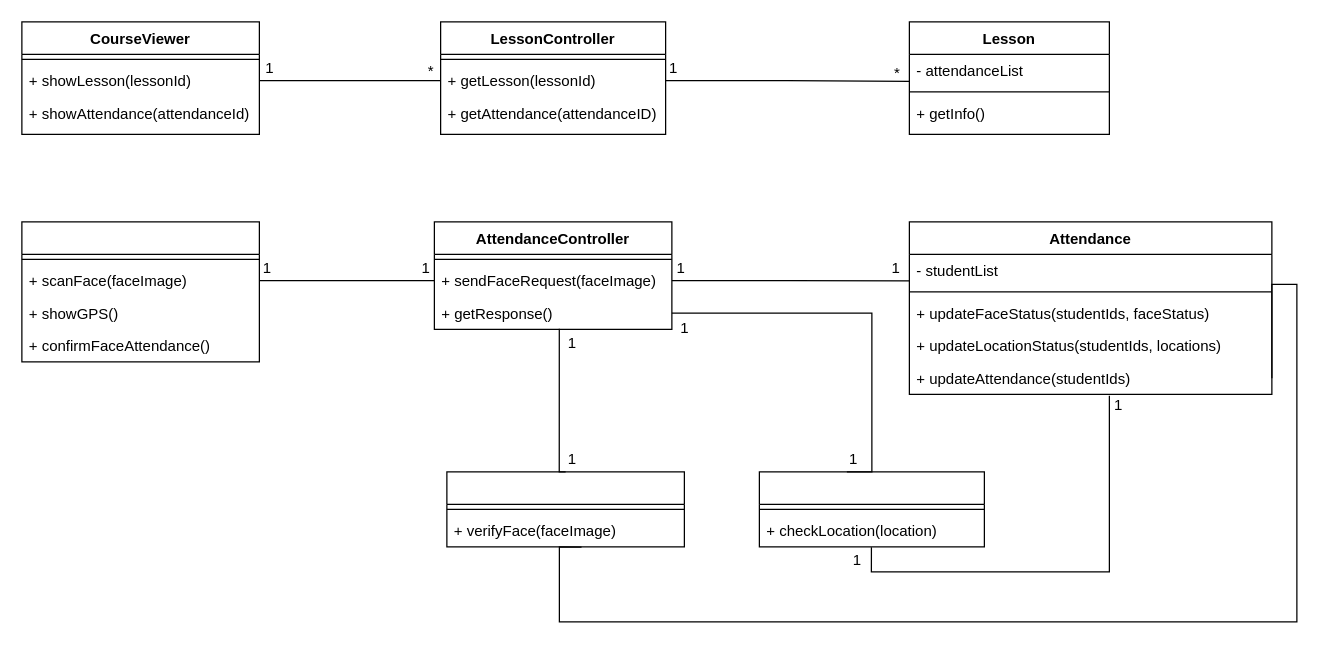
The diagram is 1320 pixels wide and 645 high, and some of its shapes have lost their labels. The shapes that lost their labels are listed below. From the top down, each one's box as (x1, y1, x2, y2) in pixels, then its label:
(21, 221, 259, 362): AttendanceViewer
(446, 471, 684, 547): FaceRecognitionService
(758, 471, 984, 547): GPSSystem
